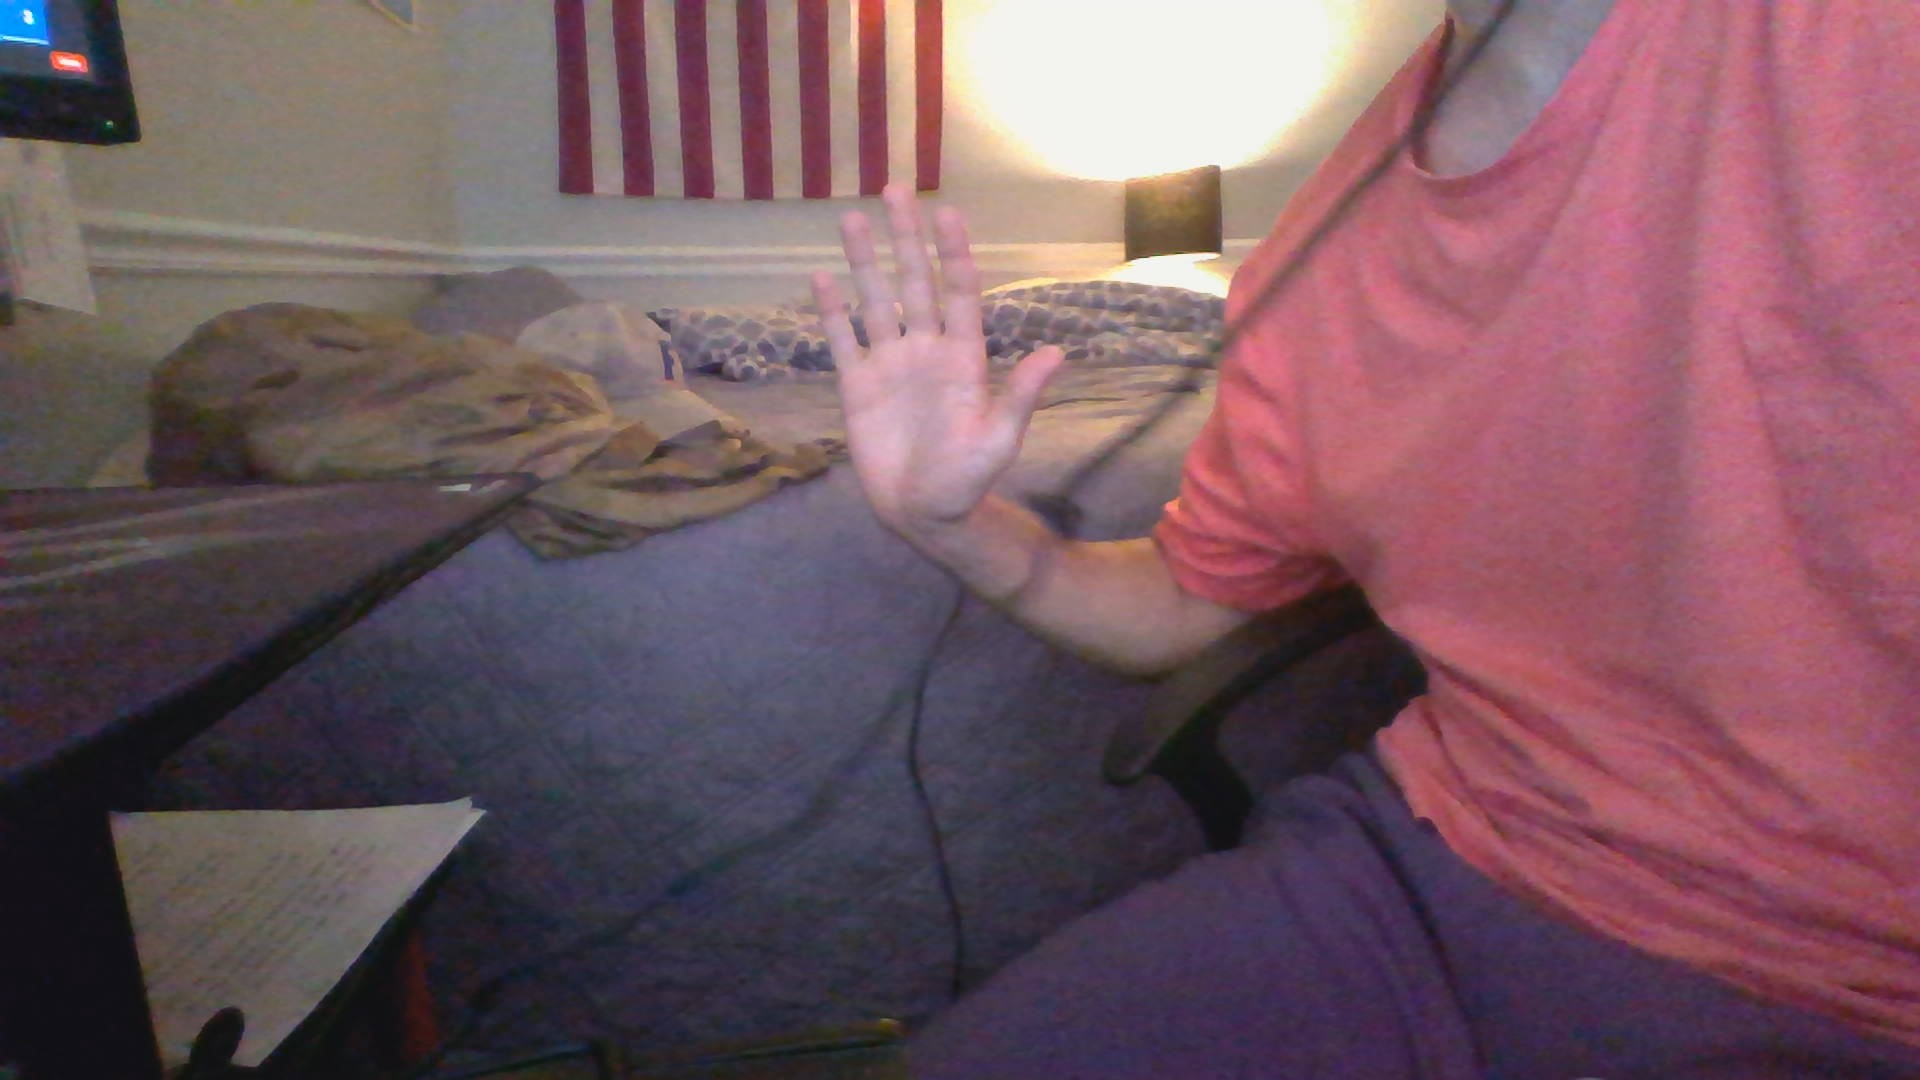Right Palm Up: (796, 181, 1071, 537)
